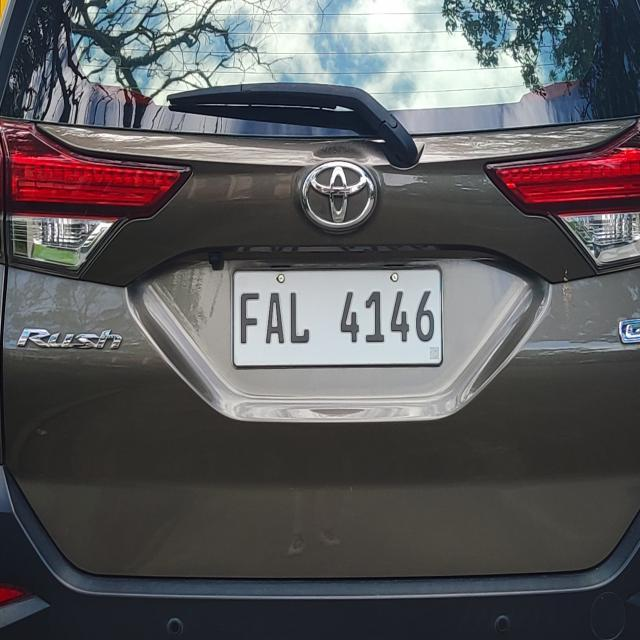LicensePlate: (222, 258, 454, 378)
